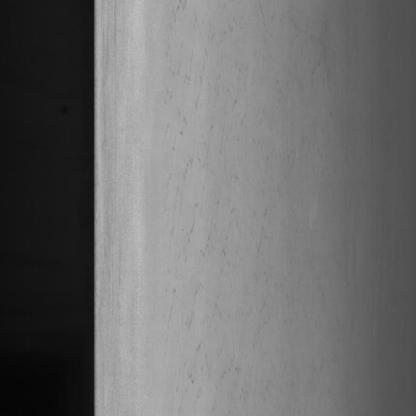silk_spot: (162, 31, 266, 401)
